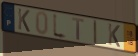0: (34, 10, 50, 36)
I: (93, 20, 98, 46)
K: (17, 7, 31, 34), (107, 23, 121, 49)
L: (52, 12, 68, 42)
T: (71, 16, 85, 42)
